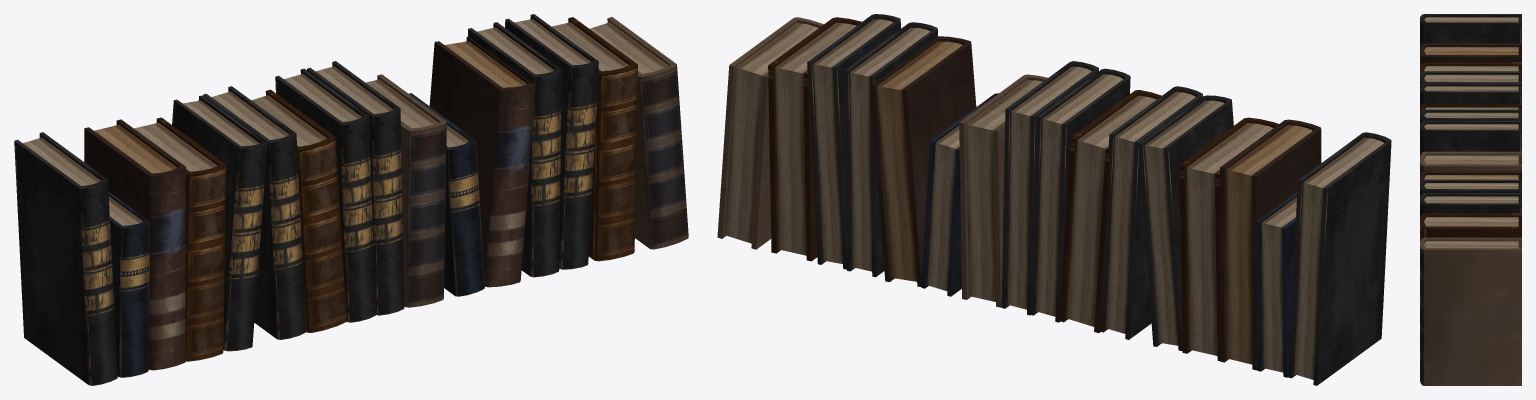
Rendered from hand_painted_old_books_geometry_nodes.glb.
The picture shows the model from 3 angles, left to right: view 1: azimuth 30°, elevation 25°; view 2: azimuth 150°, elevation 25°; view 3: azimuth 270°, elevation 25°; orthographic projection. The views are drawn at different scales.
Visible parts, largest first — view 1: books_0; view 2: books_0; view 3: books_0.
Boxes of the visible parts, <box> form: books_0: <box>14,14,688,385</box>; books_0: <box>717,14,1391,385</box>; books_0: <box>1420,14,1521,385</box>.
Size of the model in its own units: 1.32 by 0.4191 by 0.2546.
Materials: 5 (5 with a texture image).
